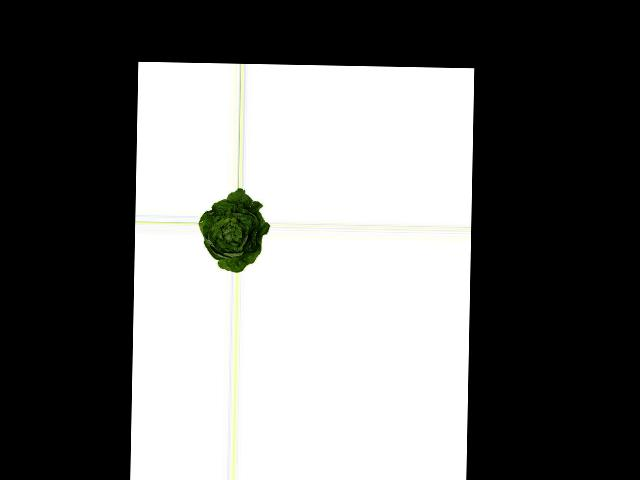lettuce: (198, 190, 270, 273)
